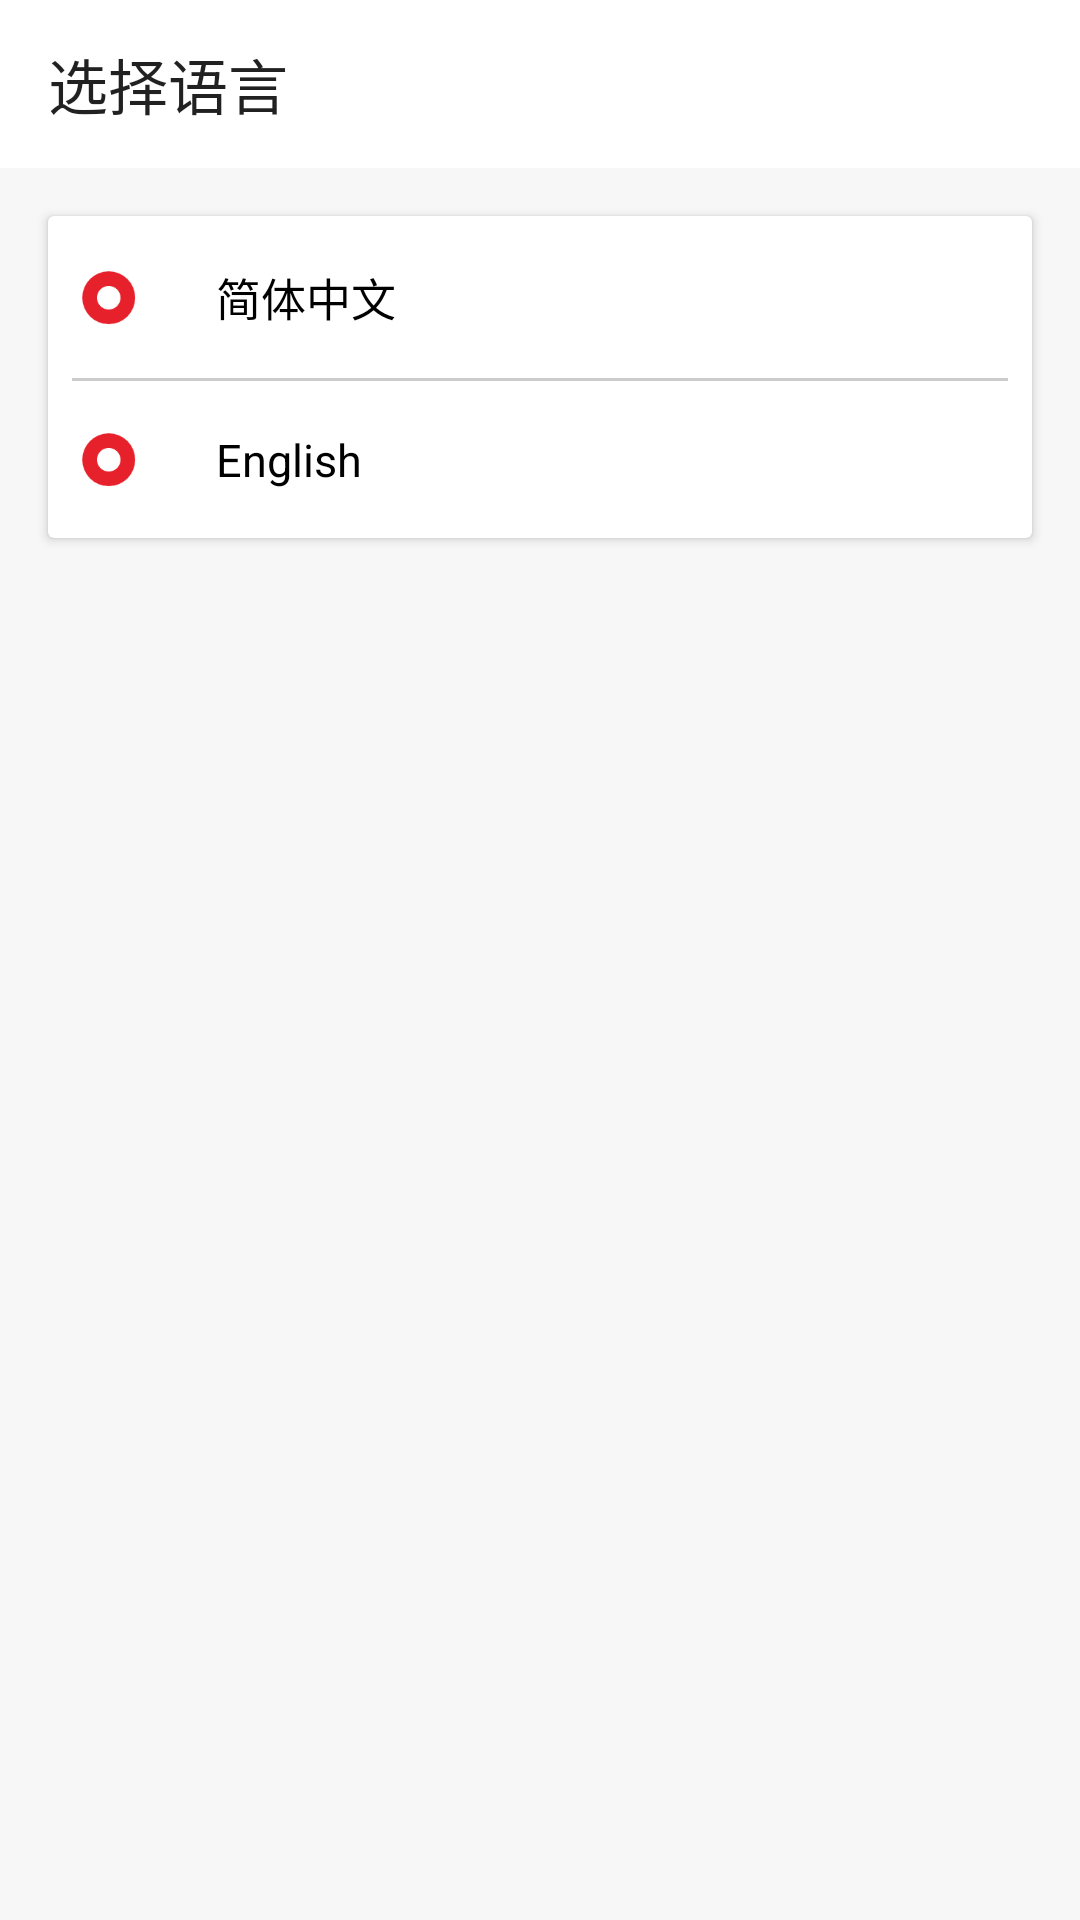

Locate icon controls on the screen. Image size 1080 × 1920, boxes as (x1, y1, x2, y2).
check on: (82, 271, 135, 324), (82, 433, 135, 486)
